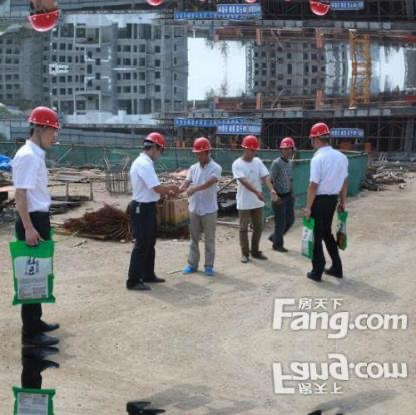Safety Helmet: (22, 103, 67, 156), (27, 1, 65, 34), (235, 127, 266, 167), (139, 129, 169, 169), (188, 134, 217, 174), (309, 118, 334, 155), (304, 1, 335, 22), (277, 136, 299, 164)
